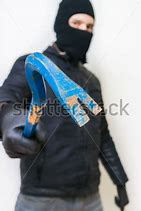crowbar: (1, 49, 105, 158)
